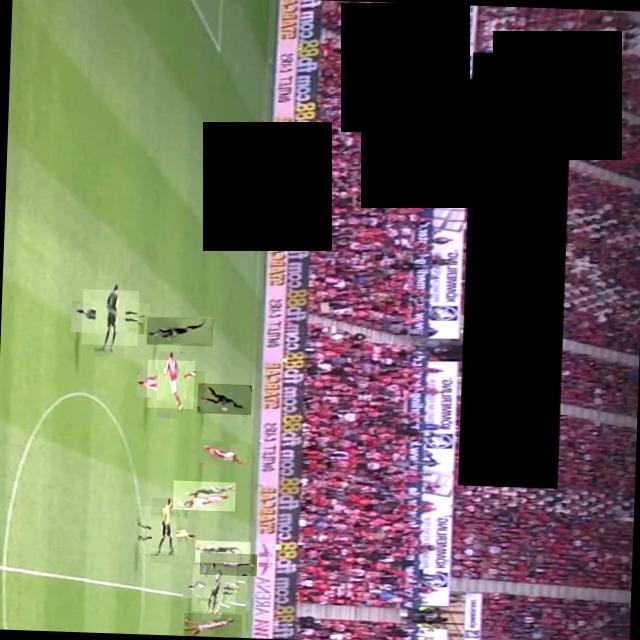referee: (138, 506, 186, 554)
soccer-player: (80, 288, 138, 346), (144, 359, 193, 409), (190, 564, 236, 612), (145, 316, 212, 346), (171, 480, 234, 511), (196, 382, 250, 414), (182, 612, 241, 638), (198, 552, 256, 576), (193, 540, 250, 564), (196, 440, 252, 464)
